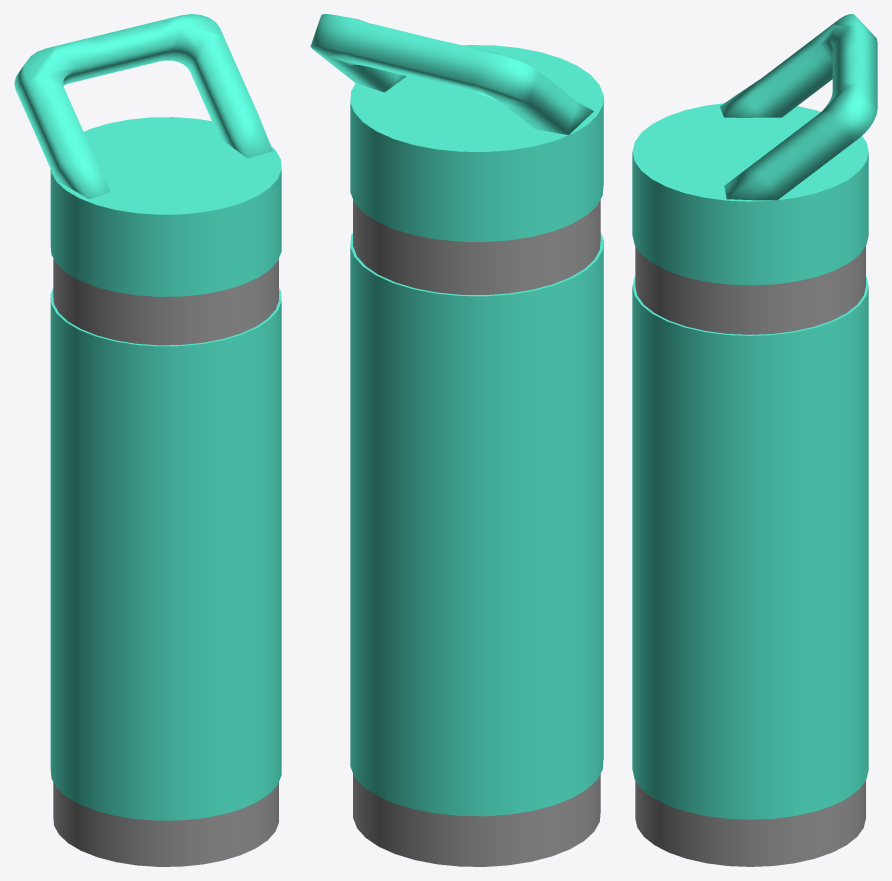
File: WaterBottle.fbx
3 views of the same model, side by side, from view 1: azimuth 30°, elevation 25°; view 2: azimuth 150°, elevation 25°; view 3: azimuth 270°, elevation 25° (orthographic). The views are drawn at different scales.
Parts seen in each view (by area): view 1: Cylinder.001, Cylinder.004, Plane, Cylinder.003, Cylinder.002; view 2: Cylinder.001, Cylinder.004, Plane, Cylinder.003, Cylinder.002; view 3: Cylinder.001, Cylinder.004, Plane, Cylinder.003, Cylinder.002.
Part boxes in pixels (x1=…): Cylinder.001: x1=50, y1=288, x2=281, y2=820; Cylinder.004: x1=50, y1=117, x2=281, y2=296; Plane: x1=14, y1=14, x2=272, y2=199; Cylinder.003: x1=53, y1=258, x2=278, y2=345; Cylinder.002: x1=53, y1=782, x2=278, y2=866; Cylinder.001: x1=350, y1=232, x2=603, y2=816; Cylinder.004: x1=350, y1=45, x2=603, y2=241; Plane: x1=310, y1=14, x2=593, y2=134; Cylinder.003: x1=353, y1=200, x2=600, y2=294; Cylinder.002: x1=353, y1=774, x2=600, y2=866; Cylinder.001: x1=632, y1=276, x2=868, y2=819; Cylinder.004: x1=632, y1=103, x2=868, y2=285; Plane: x1=720, y1=14, x2=877, y2=200; Cylinder.003: x1=635, y1=246, x2=865, y2=334; Cylinder.002: x1=635, y1=780, x2=865, y2=866.
Size of the model in its own units: 23.71 by 84.66 by 24.6.
